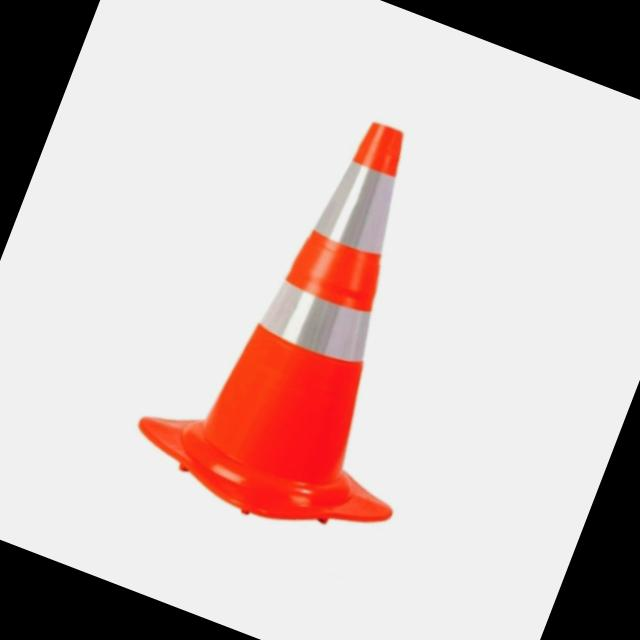cone: (109, 74, 532, 581)
